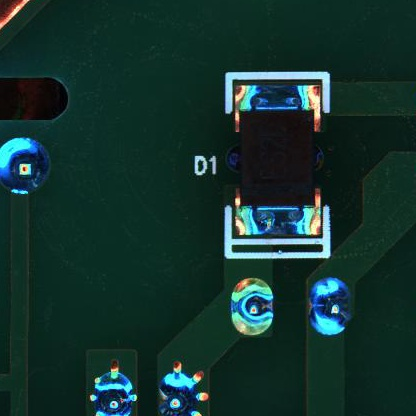spot: (1, 136, 54, 198), (87, 356, 135, 416), (156, 361, 208, 416), (232, 275, 275, 338), (309, 278, 349, 335)
